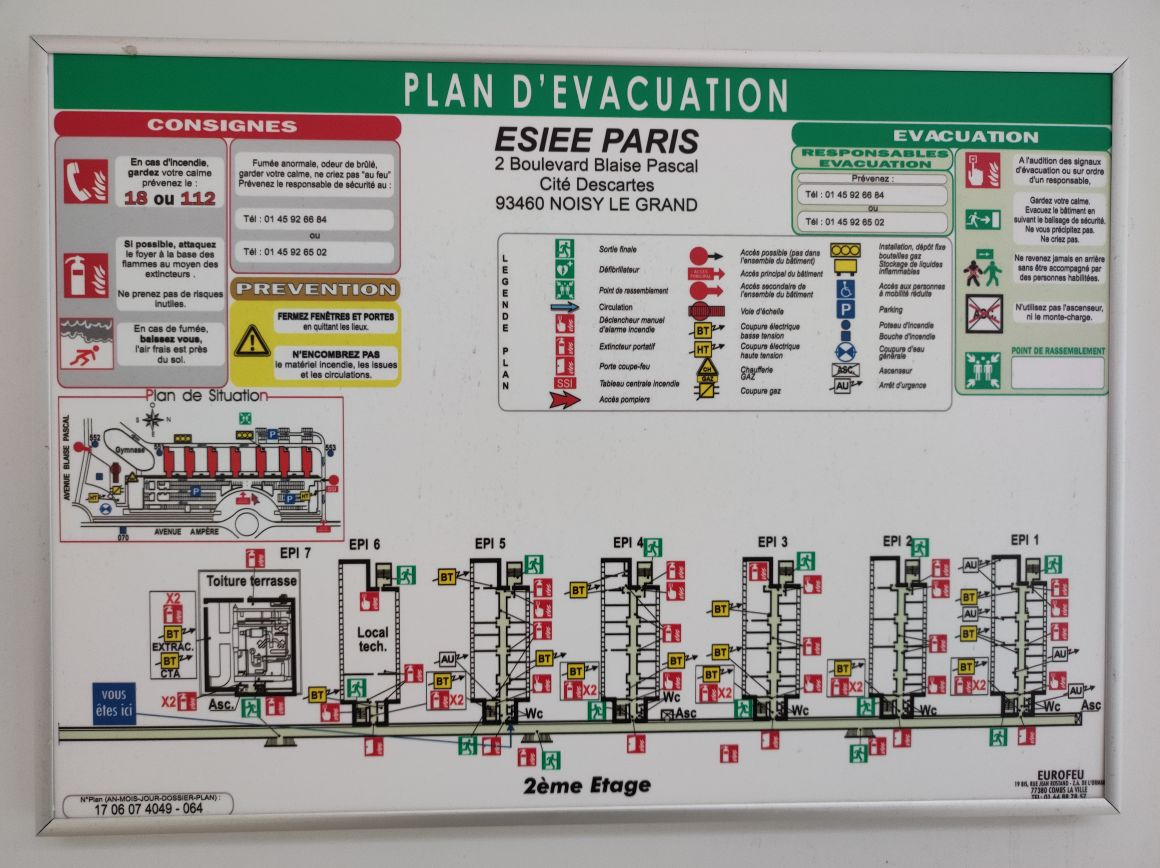coupure electrique basse tension: (152, 649, 197, 674), (428, 563, 469, 590), (952, 622, 990, 651), (684, 319, 733, 341), (561, 577, 598, 604), (701, 596, 741, 620), (154, 624, 196, 646), (952, 655, 994, 676), (708, 637, 743, 662), (827, 653, 870, 673), (564, 657, 600, 680), (426, 670, 470, 687), (697, 665, 739, 681), (309, 683, 342, 703), (665, 647, 698, 665), (956, 586, 990, 603), (530, 647, 558, 666)
exit: (642, 534, 664, 559), (1044, 553, 1065, 575), (733, 698, 754, 719), (797, 551, 817, 573), (555, 238, 575, 259), (847, 743, 868, 763), (586, 700, 607, 720), (240, 698, 260, 718), (396, 566, 416, 585), (911, 537, 928, 559), (857, 697, 876, 716), (347, 680, 368, 697), (524, 555, 542, 574), (989, 727, 1007, 746), (456, 738, 474, 755), (543, 753, 560, 770), (967, 211, 982, 230)
extincteur: (62, 255, 110, 296), (176, 689, 199, 713), (401, 661, 424, 684), (748, 561, 771, 584), (717, 744, 741, 765), (953, 675, 976, 696), (161, 602, 181, 626), (868, 734, 889, 756), (516, 746, 536, 769), (265, 696, 286, 717), (830, 676, 850, 698), (665, 558, 684, 581), (429, 691, 450, 711), (247, 549, 268, 569), (534, 576, 553, 598), (802, 635, 822, 655), (533, 621, 554, 640), (660, 623, 681, 642), (698, 682, 716, 704), (1048, 624, 1070, 642), (554, 335, 574, 354), (930, 559, 951, 577), (562, 682, 583, 700), (1051, 578, 1069, 597), (928, 633, 946, 652)
incendie: (962, 152, 1001, 191), (661, 578, 686, 606), (800, 673, 824, 695), (1044, 669, 1069, 690), (357, 591, 380, 613), (530, 673, 553, 695), (661, 669, 683, 692), (531, 599, 552, 620), (803, 573, 824, 594), (553, 312, 574, 333), (928, 675, 948, 696), (932, 578, 952, 597), (318, 704, 340, 720)
porte coupe feu: (760, 730, 782, 752), (625, 734, 647, 755), (481, 737, 502, 758), (364, 737, 385, 756), (555, 358, 576, 377), (1014, 726, 1036, 744)
rassemblement: (961, 349, 1002, 389), (555, 282, 573, 301), (241, 412, 252, 426)
telephone: (65, 160, 107, 202)
